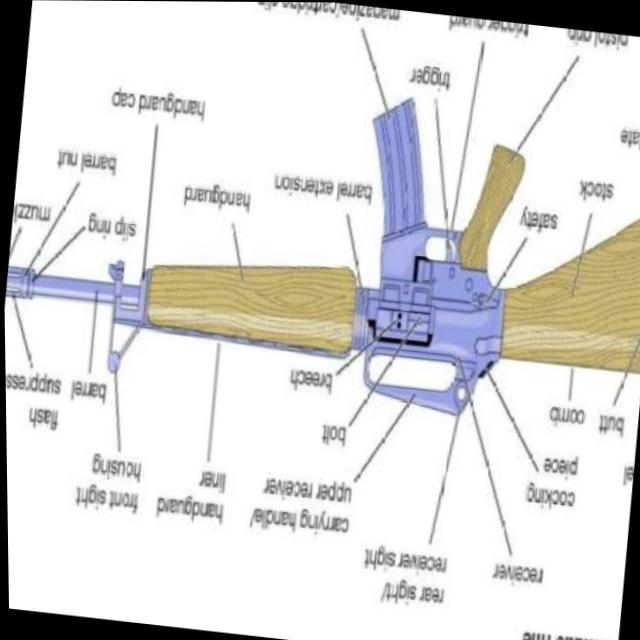weapon: (1, 57, 640, 461)
